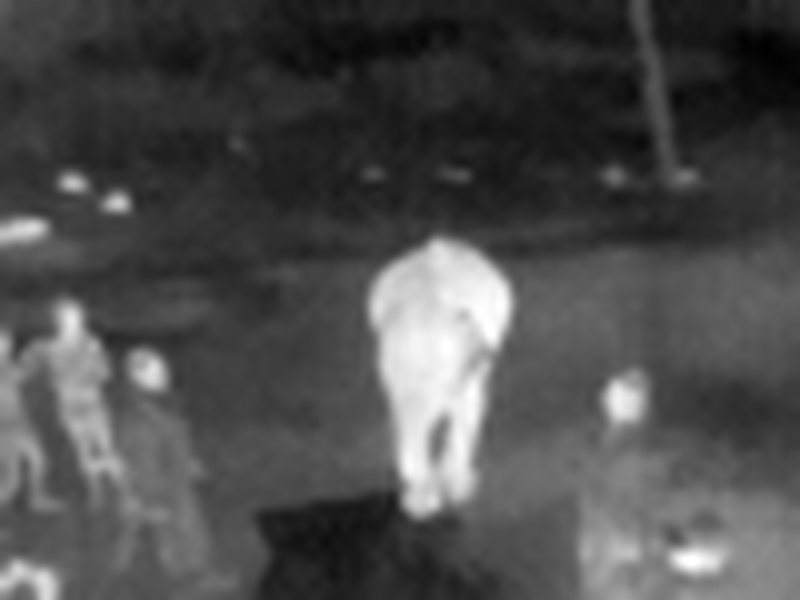elephant: (349, 217, 538, 497)
